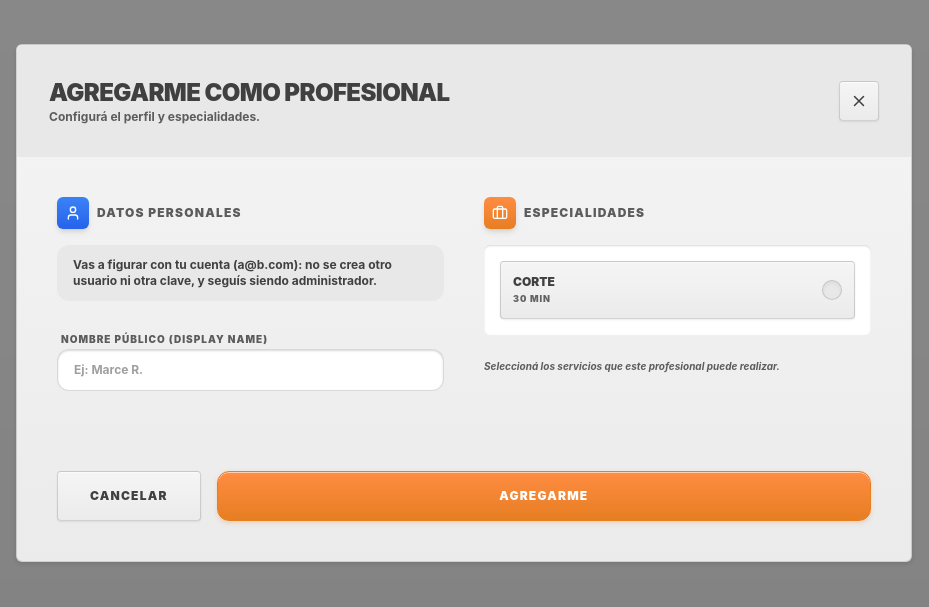
Test: StaffFormModal: agregarme como profesional › un nombre visible con arroba no se guarda y avisa que es publico
This screenshot has width=929, height=607.
Type "duenio@example.com" into the field with placeholder "Ej: Marce R.".
click(250, 370); type("duenio@example.com")  # box [57,349,444,391]
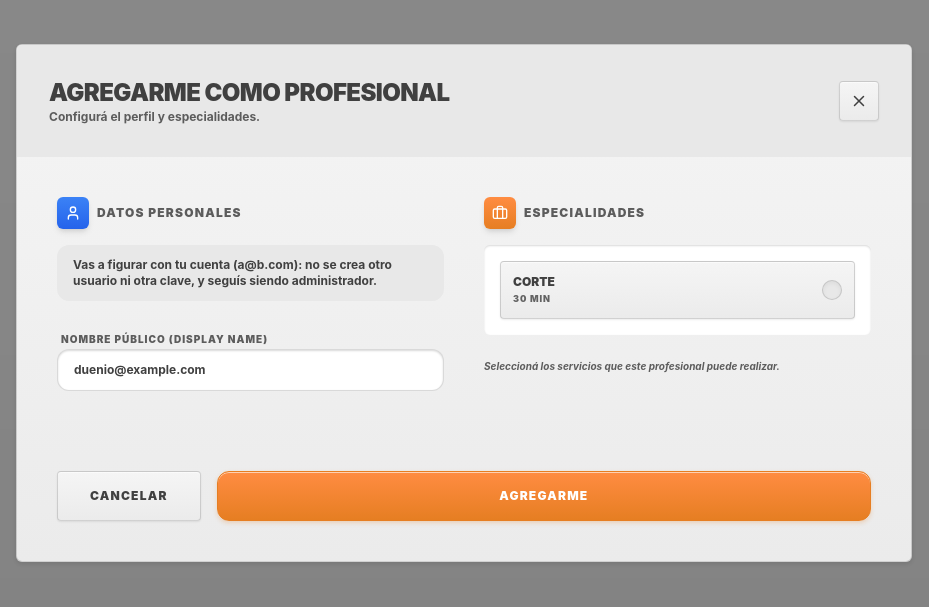
Click the button "Agregarme".
click(544, 496)  # box [217,471,871,521]
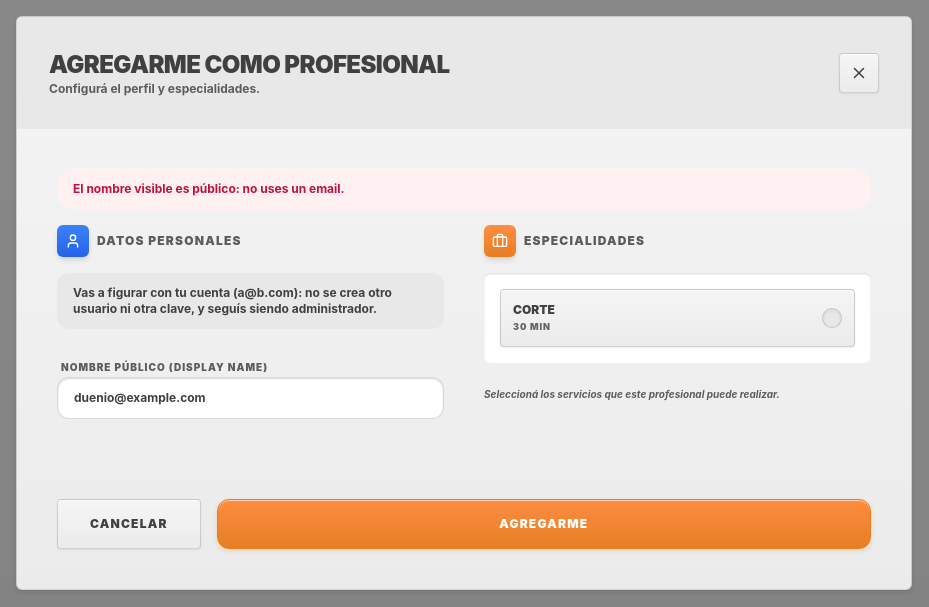
Expected: the message reads "El nombre visible es público: no uses un email.", [73,181,345,196]
